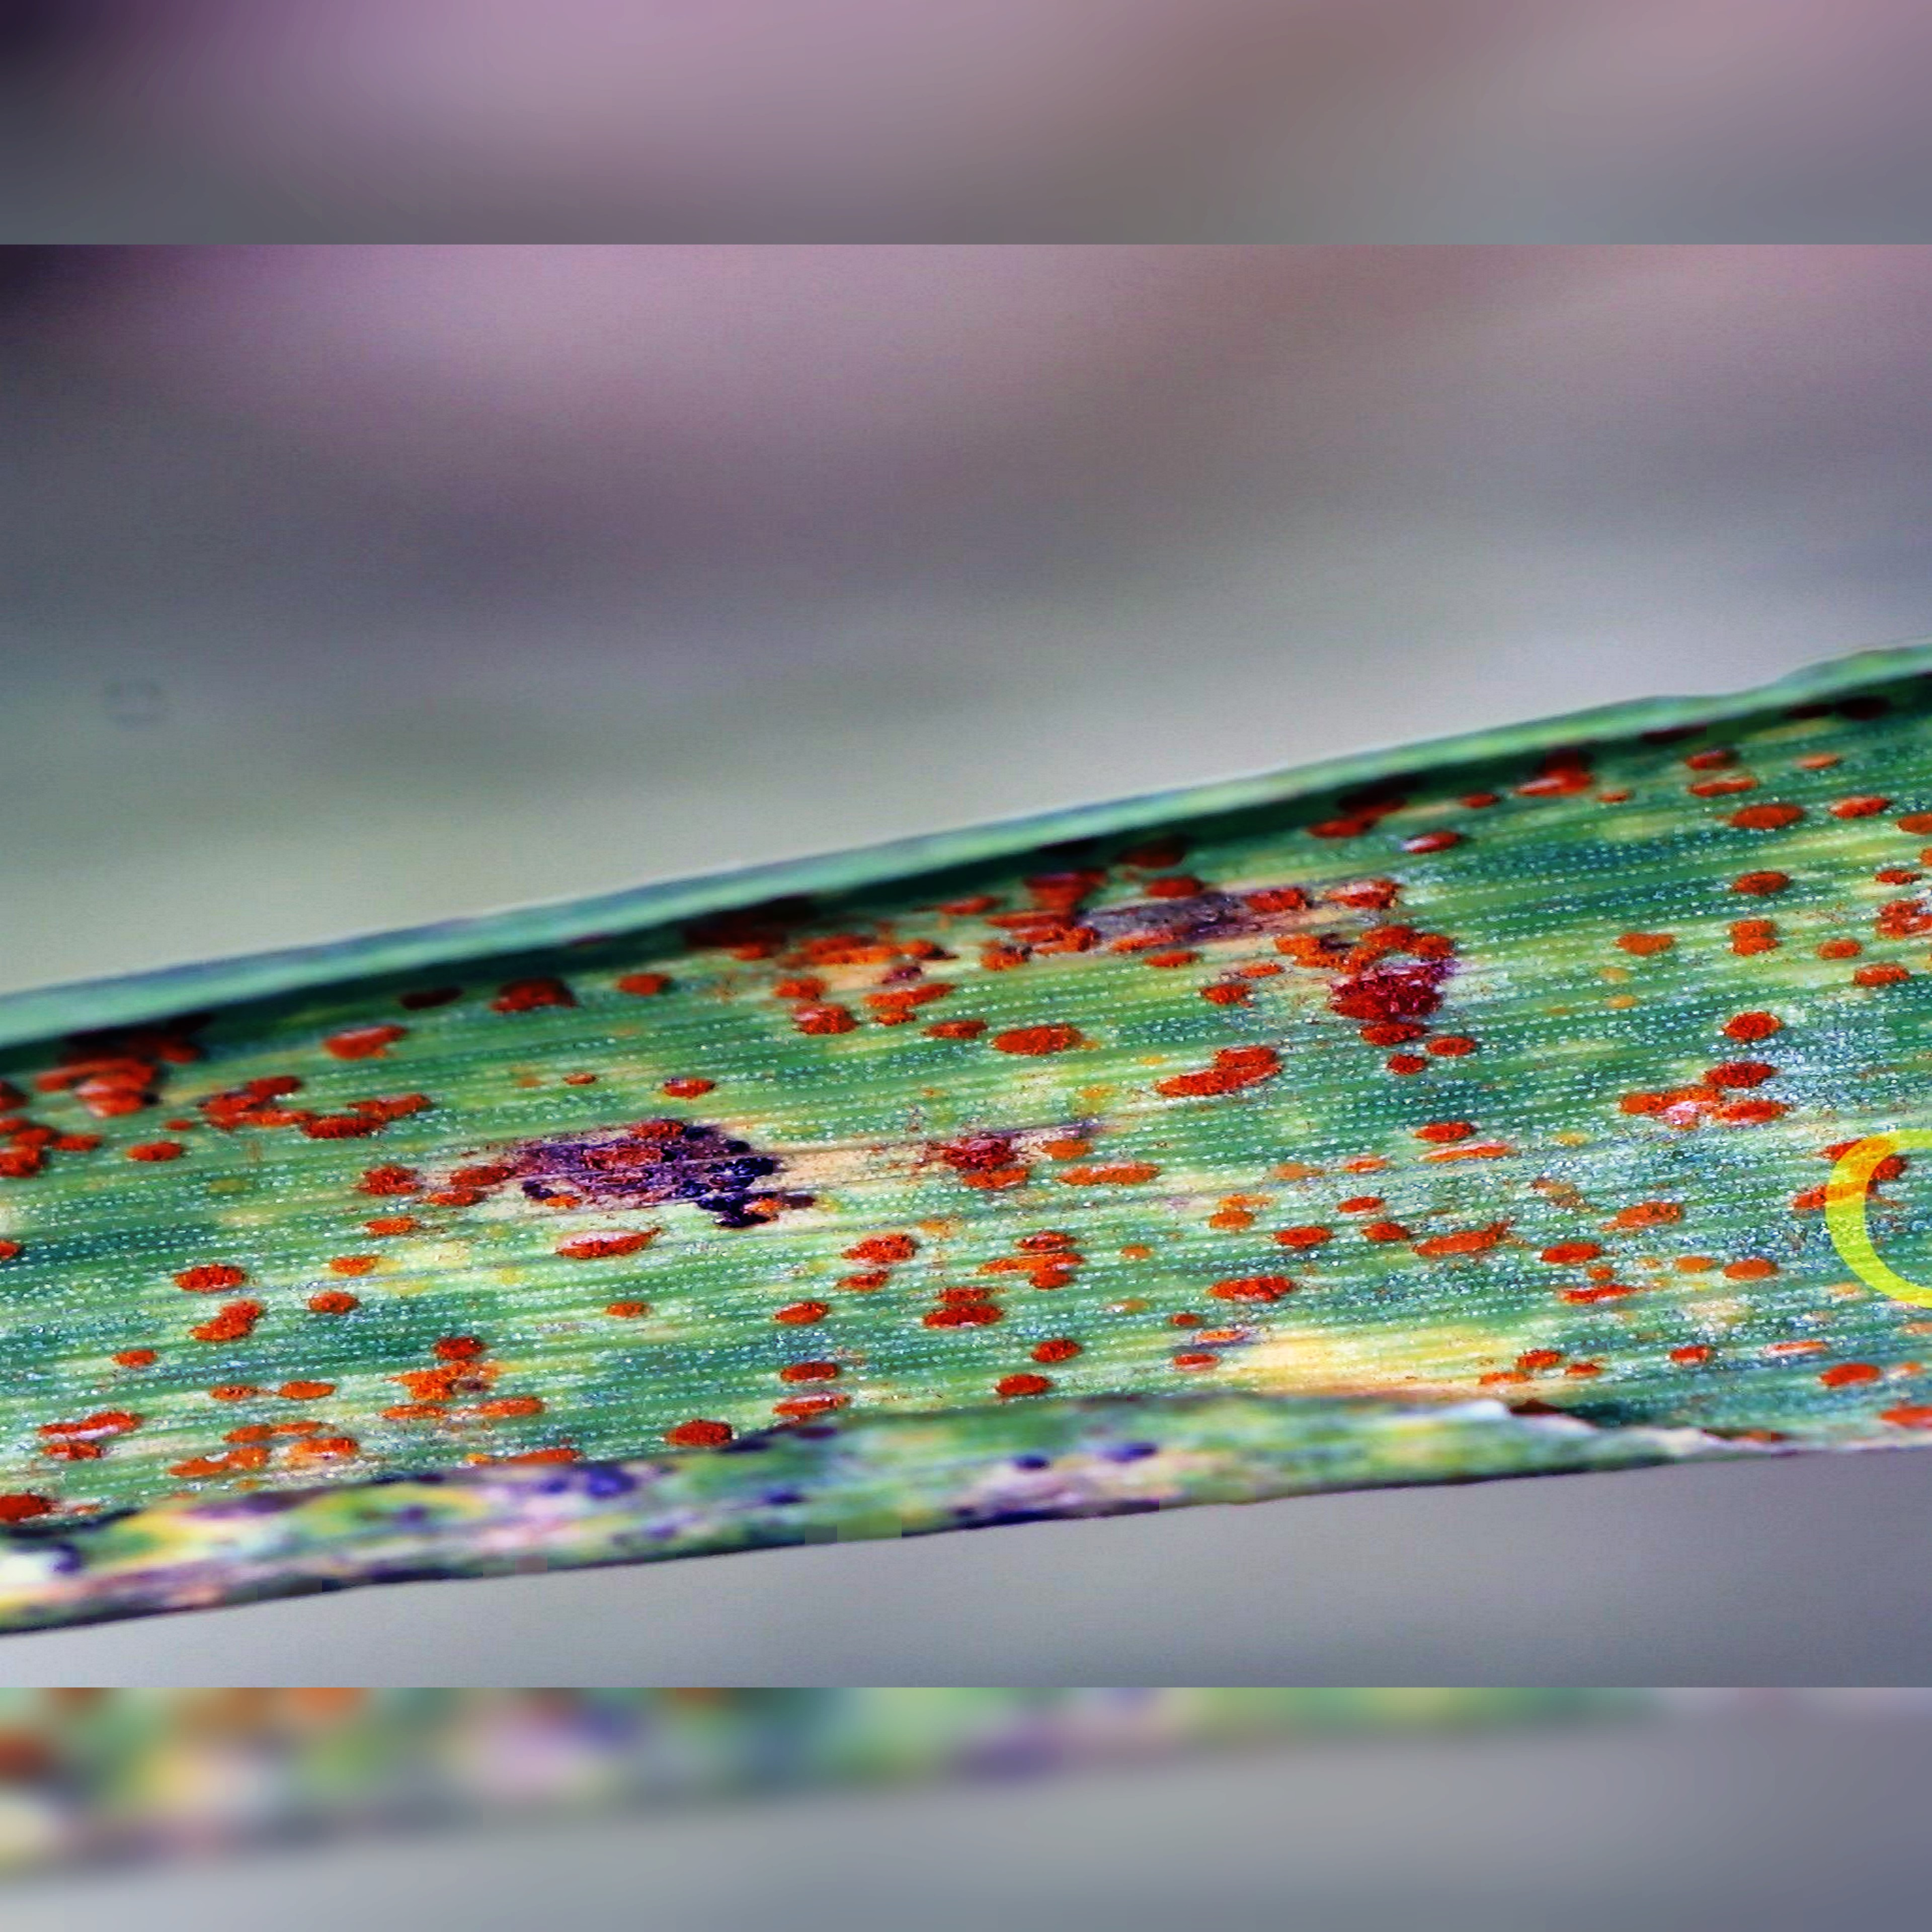Leaf Rust: (53, 732, 1819, 1513)
